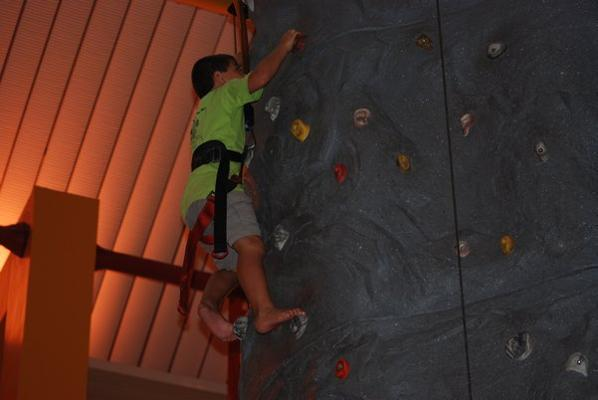person: (177, 29, 307, 343)
